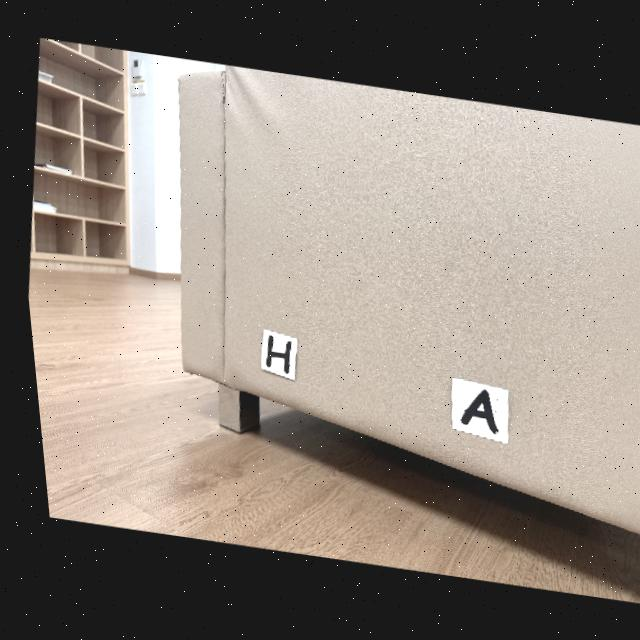A: (453, 390, 489, 433)
H: (259, 335, 284, 373)
